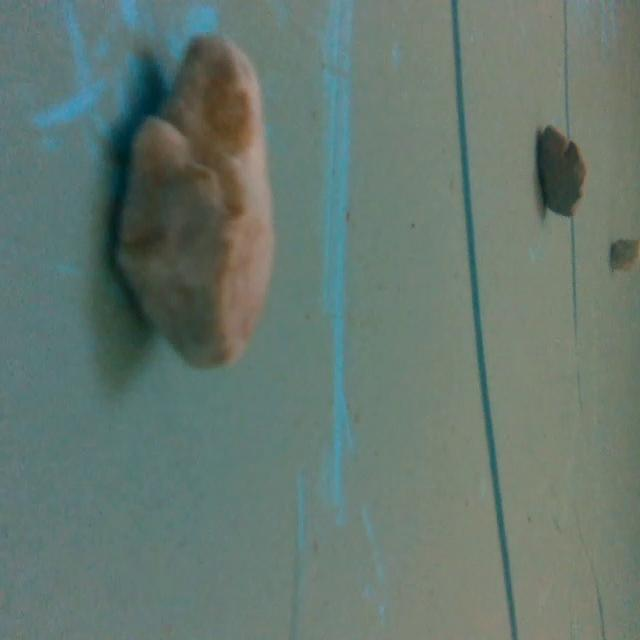rock: (102, 28, 277, 372), (535, 119, 587, 228)
